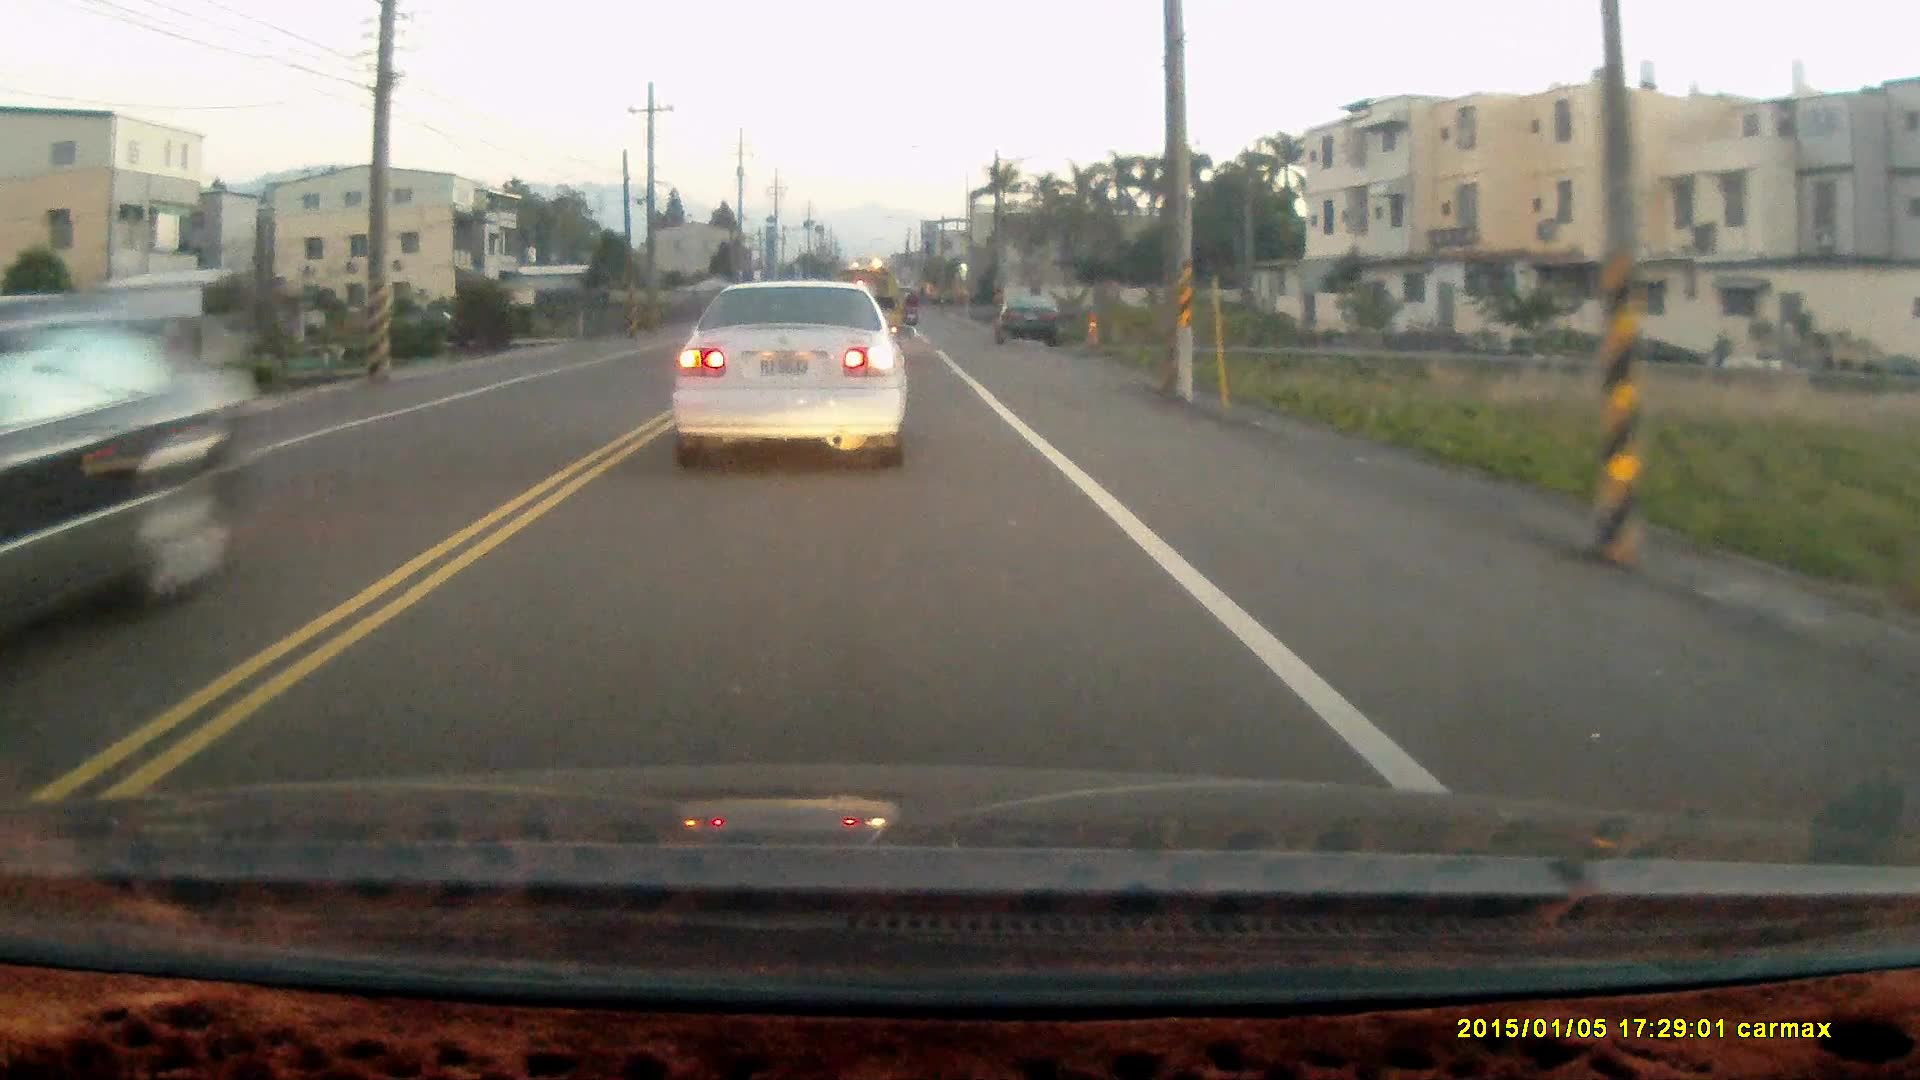vehicle: (7, 287, 255, 649), (671, 280, 913, 473), (1000, 294, 1068, 351)
